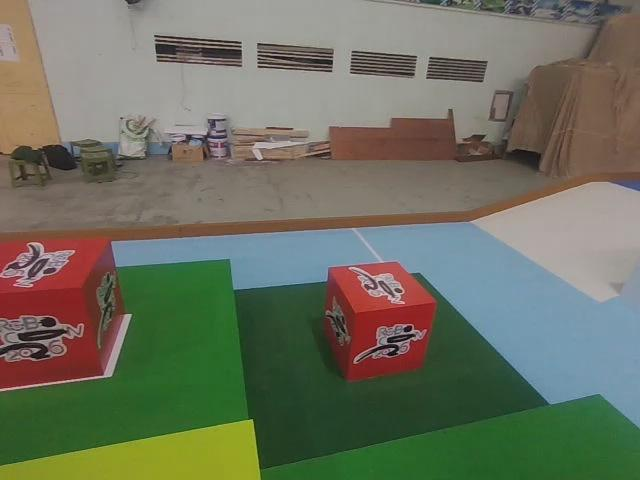R1: (0, 242, 127, 394), (323, 260, 433, 383)
